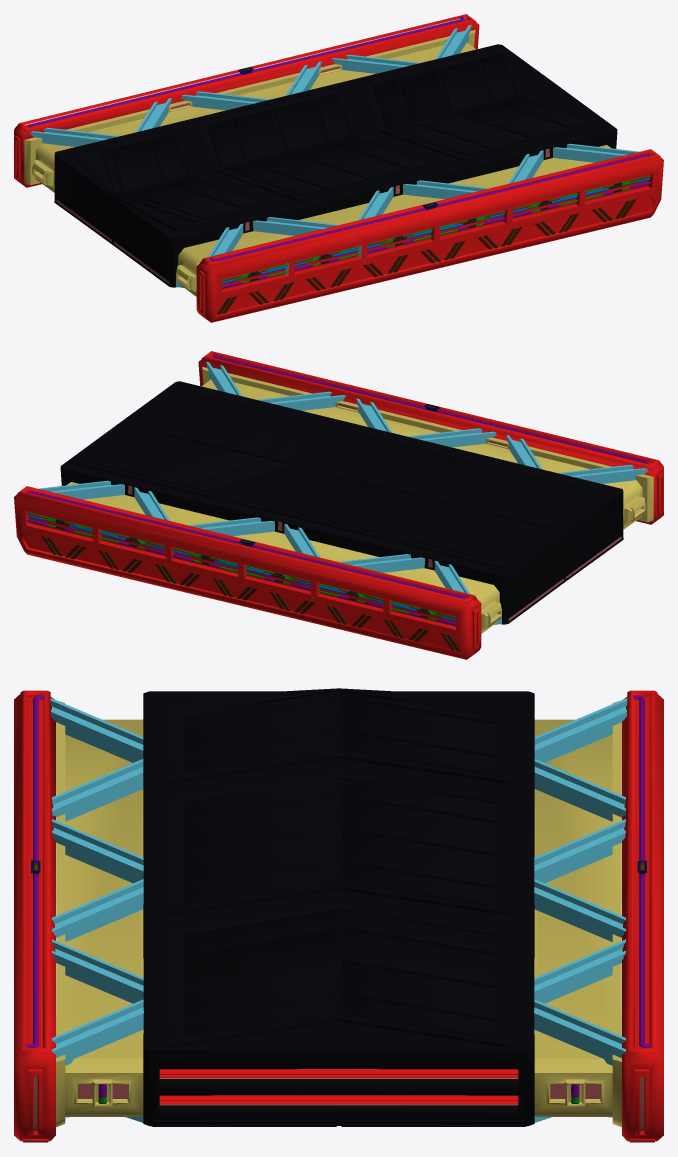
File: OBJ_Platform21.fbx
3 renders of one model, top to bottom at view 1: azimuth 30°, elevation 25°; view 2: azimuth 150°, elevation 25°; view 3: azimuth 270°, elevation 25°, orthographic. The views are drawn at different scales.
Visible parts, largest first — view 1: Object052; view 2: Object052; view 3: Object052.
Boxes of the visible parts, x1,y1,x2,y2 form: Object052: (14, 14, 663, 322); Object052: (14, 351, 663, 659); Object052: (14, 688, 663, 1142).
Bounding box in the file's own units: 4040 × 523 × 2999.
